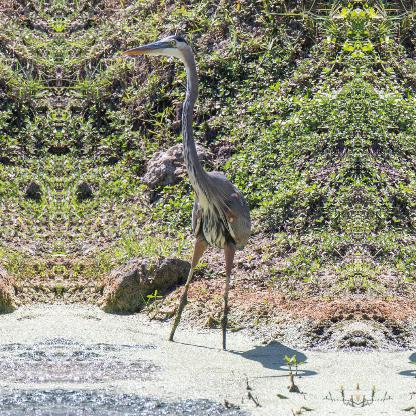Bird: (120, 31, 256, 348)
